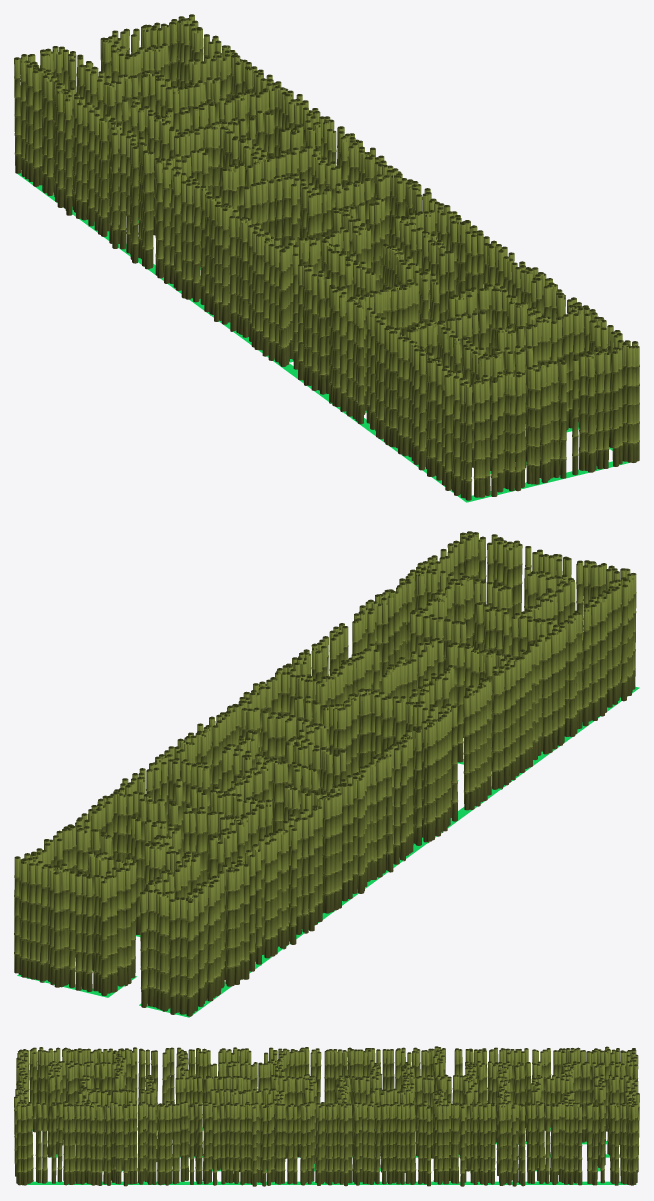
Rendered from Maze_test.glb.
3 renders of one model, top to bottom at view 1: azimuth 30°, elevation 25°; view 2: azimuth 150°, elevation 25°; view 3: azimuth 270°, elevation 25°, orthographic. The views are drawn at different scales.
Visible parts, largest first — view 1: EMITER; view 2: EMITER; view 3: EMITER.
Boxes of the visible parts, box(x1,y1,x2,y2) form: EMITER: box(14, 14, 639, 502); EMITER: box(14, 531, 639, 1017); EMITER: box(14, 1046, 639, 1186).
Bounding box in the file's own units: 4.5 × 2.77 × 19.49.
59 materials, 1 textured.
